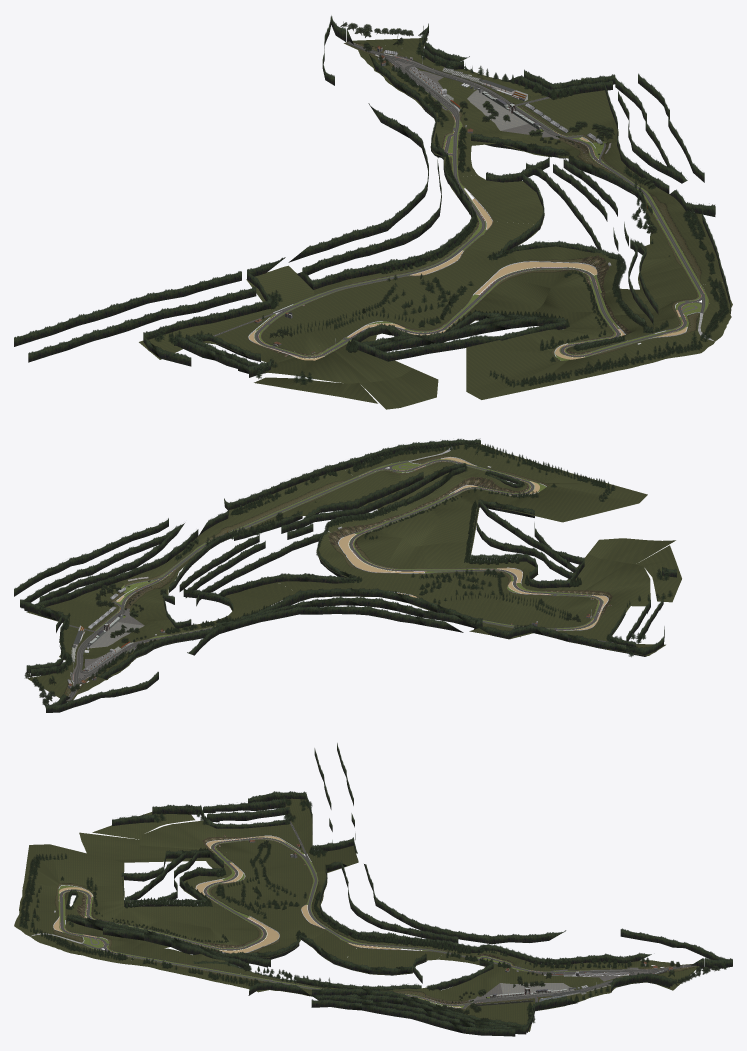
File: spa_francorchamps.glb
The picture shows the model from 3 angles, top to bottom: view 1: azimuth 30°, elevation 25°; view 2: azimuth 150°, elevation 25°; view 3: azimuth 270°, elevation 25°; orthographic projection. The views are drawn at different scales.
Parts seen in each view (by area): view 1: Spa Francorchamps; view 2: Spa Francorchamps; view 3: Spa Francorchamps.
Boxes of the visible parts, x1,y1,x2,y2 form: Spa Francorchamps: (14, 15, 732, 409); Spa Francorchamps: (14, 438, 681, 712); Spa Francorchamps: (14, 743, 732, 1036).
Size of the model in its own units: 13559 by 847 by 14195.
Materials: 66 (64 with a texture image).
